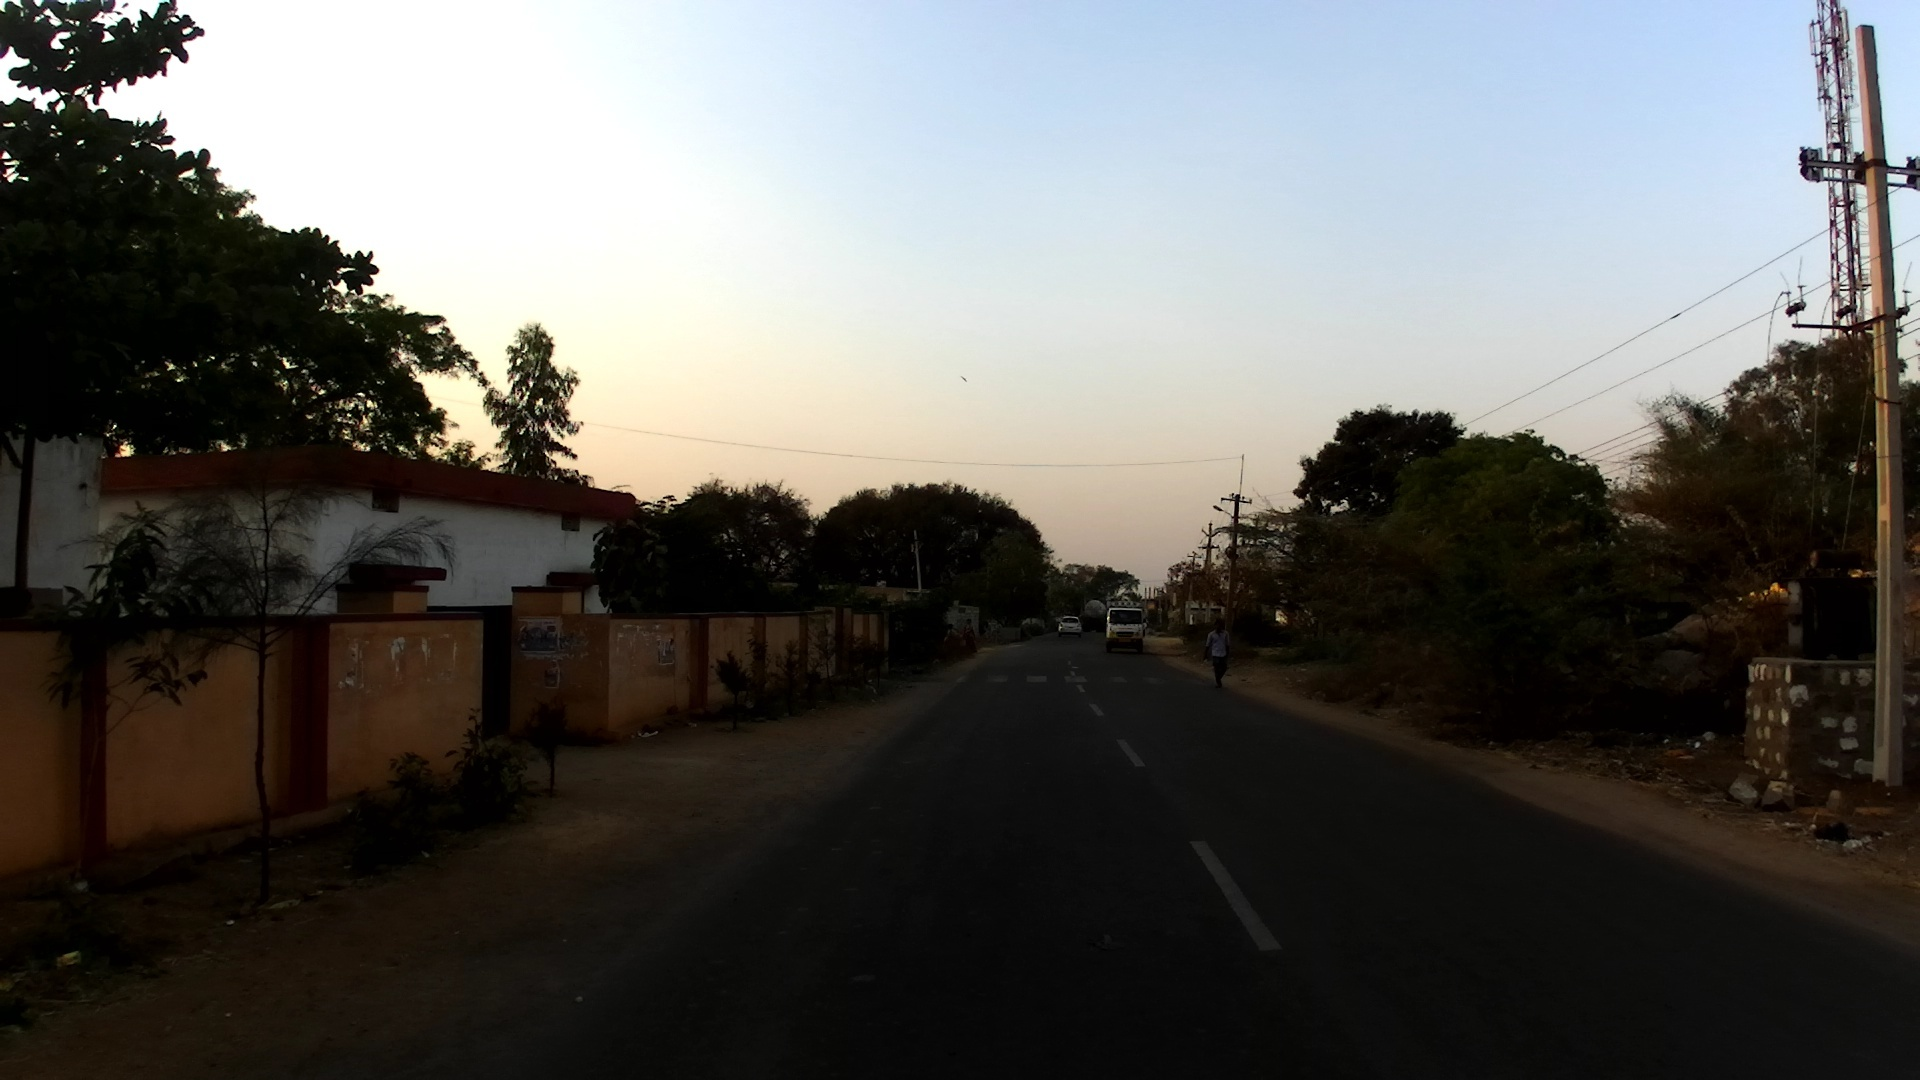car: (1105, 604, 1146, 653), (1057, 616, 1084, 641)
person: (1206, 618, 1230, 691)
truck: (1081, 600, 1111, 634)
